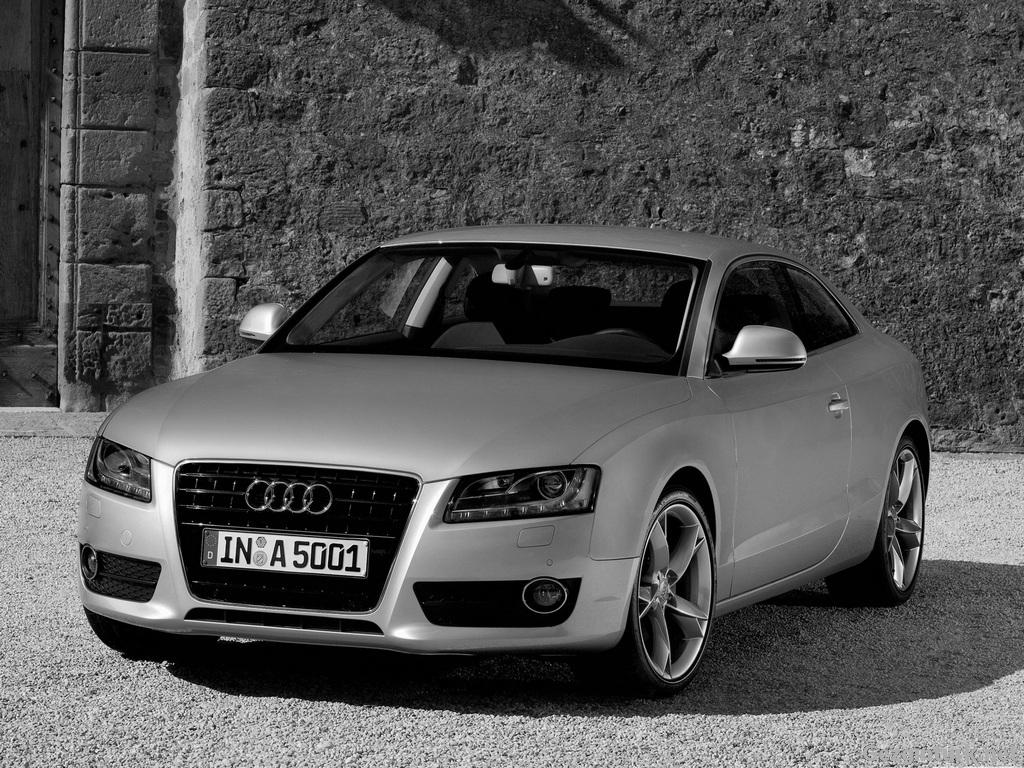car: (72, 214, 934, 708)
